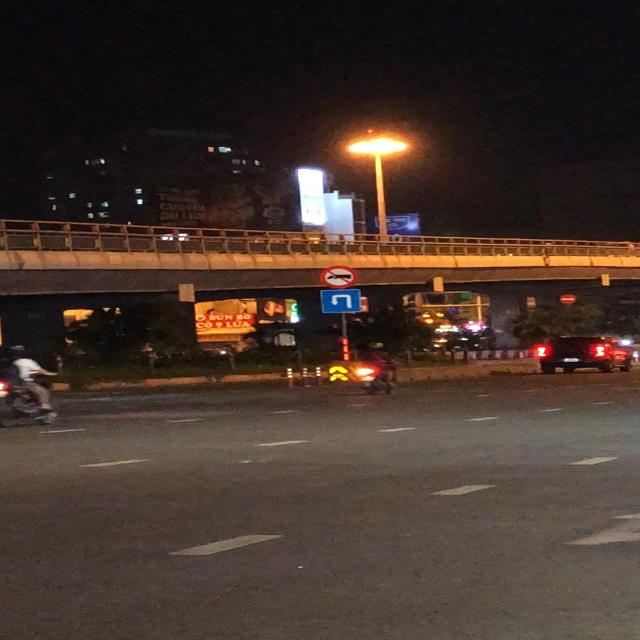Bien bao cam xe so-mi ro-mooc: (320, 265, 358, 289)
